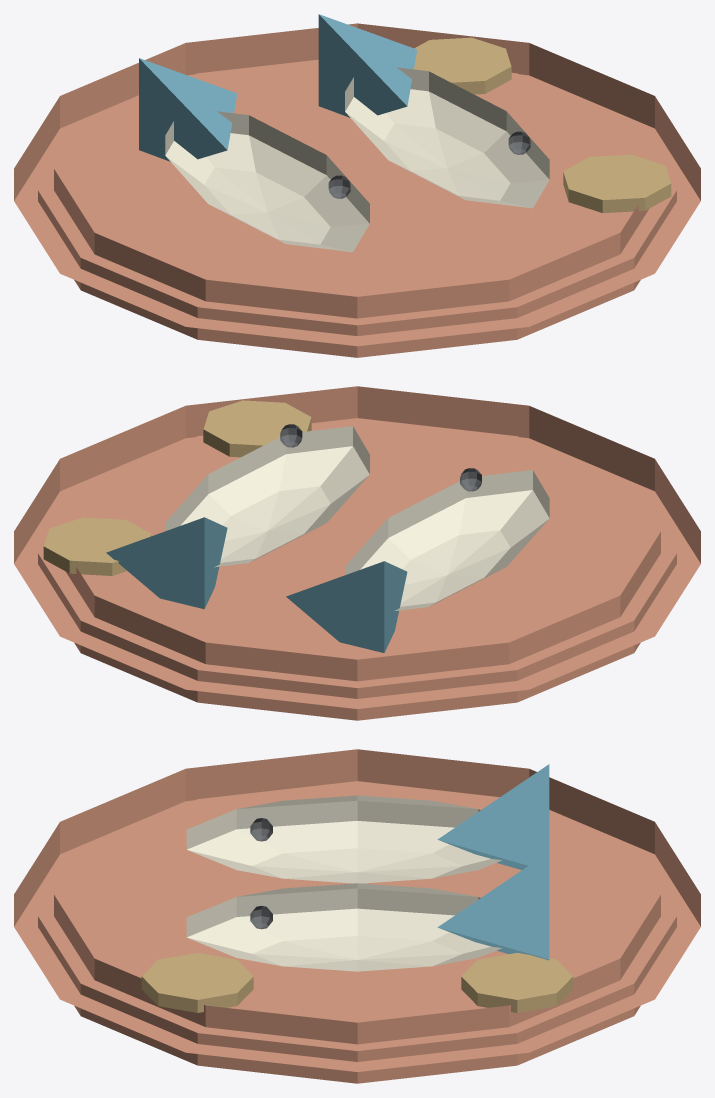
The model's file is tidal-grilled-fish-platter__270.glb.
3 renders of one model, top to bottom at view 1: azimuth 30°, elevation 25°; view 2: azimuth 150°, elevation 25°; view 3: azimuth 270°, elevation 25°, orthographic.
Visible parts, largest first — view 1: tidal-observatory-fish-platter; view 2: tidal-observatory-fish-platter; view 3: tidal-observatory-fish-platter.
Boxes of the visible parts, x1=… form: tidal-observatory-fish-platter: x1=14, y1=14, x2=700, y2=357; tidal-observatory-fish-platter: x1=14, y1=386, x2=700, y2=720; tidal-observatory-fish-platter: x1=14, y1=749, x2=700, y2=1083.
Bounding box in the file's own units: 0.86 × 0.1723 × 0.86.
